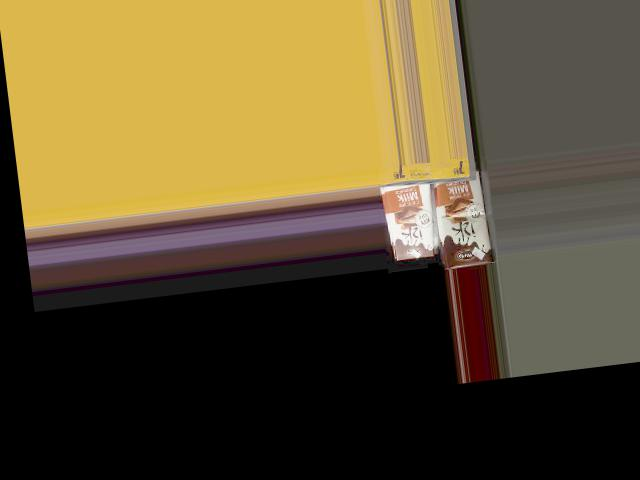chocolate: (374, 172, 438, 264)
